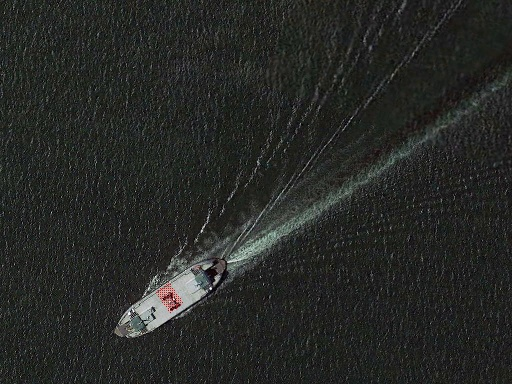ship: (106, 247, 236, 350)
